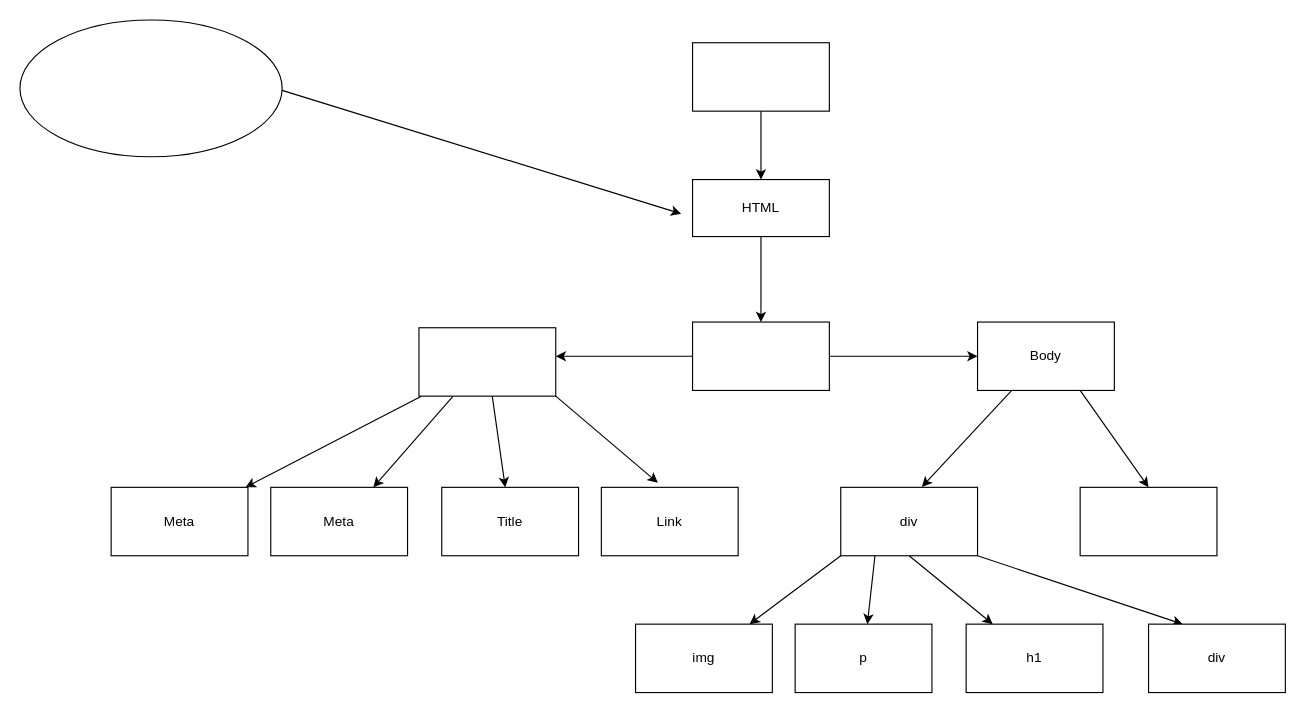
Image size: 1305x713. Some labels were removed from this diagram. Each missing label, with the box of its shape:
Document: (691, 321, 829, 390)
Everything in this structure is a node: (19, 19, 282, 157)
Head: (418, 327, 556, 396)
Script: (1079, 486, 1217, 556)
Window: (691, 42, 829, 111)
